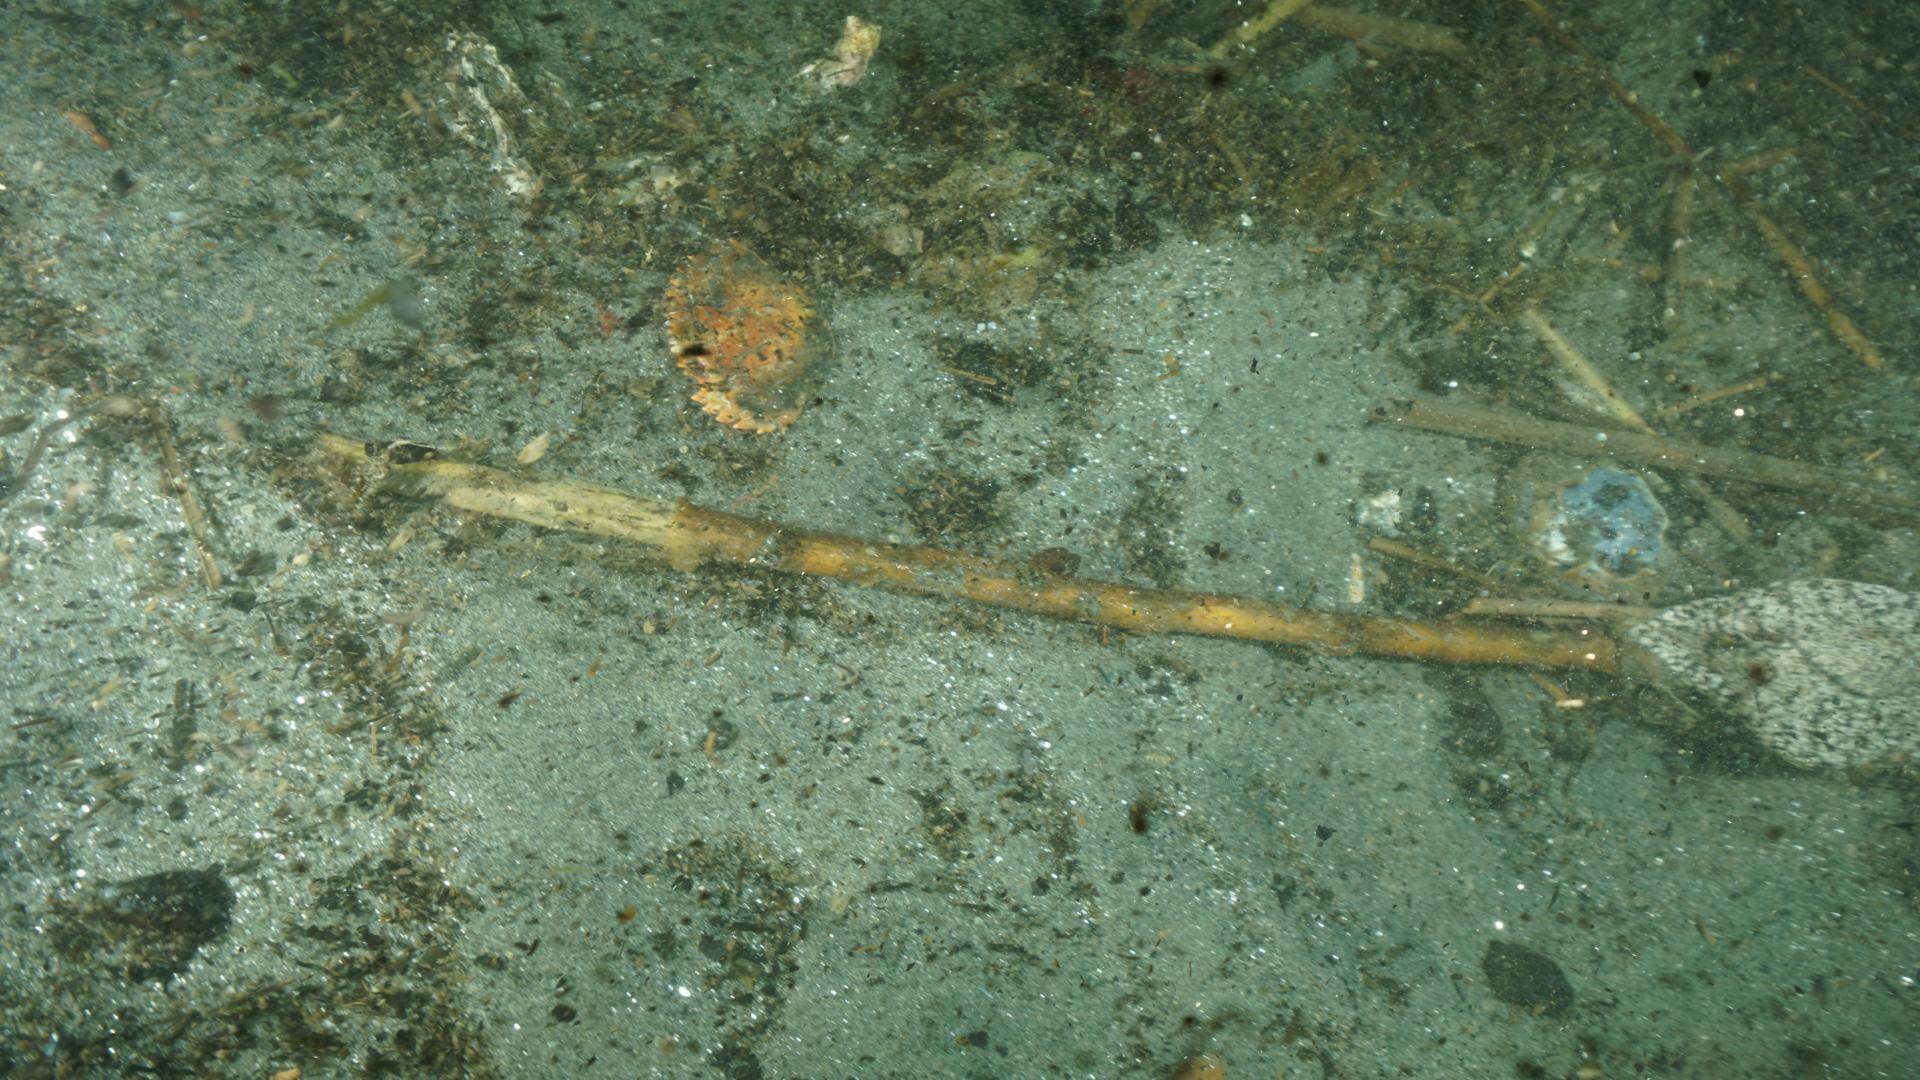wood: (307, 434, 1619, 673), (1399, 392, 1920, 530)
